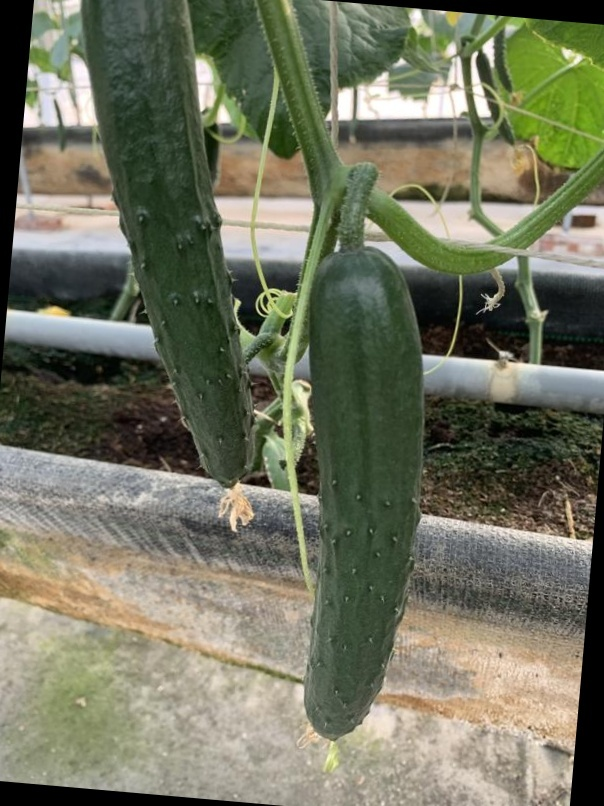mature: (76, 0, 261, 489), (294, 230, 433, 752)
